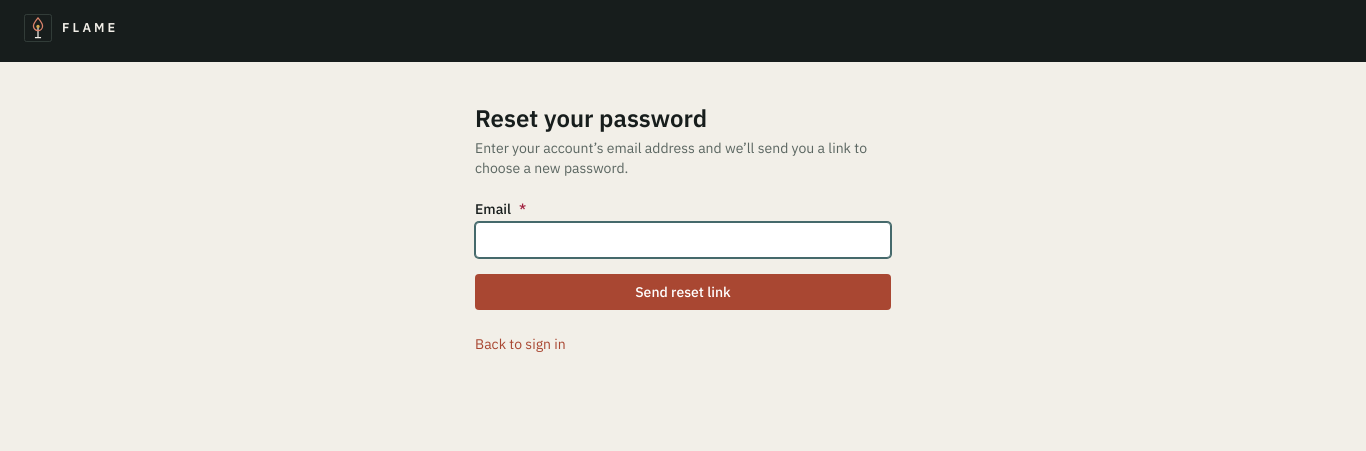
Test: forgot password › explains a rate limit
This screenshot has width=1366, height=451.
Expected: the button "Send reset link" is enabled, 475,274 -> 891,310
Type "ada@example.com" into the field labelled "Email *" at {"x": 683, "y": 240}, box 475,222 -> 891,258
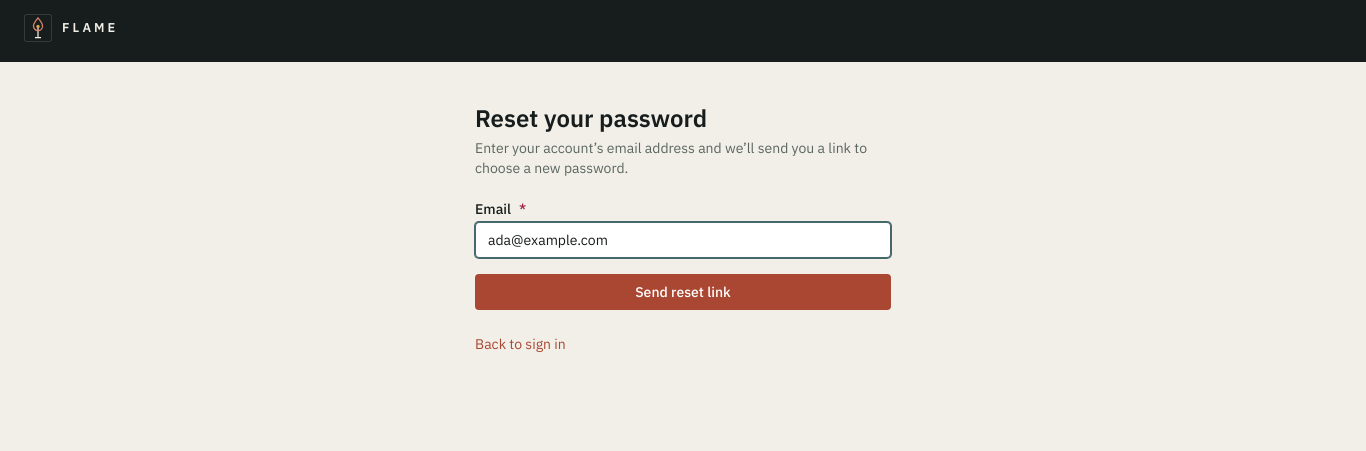
Click the button "Send reset link" at {"x": 683, "y": 292}, box 475,274 -> 891,310
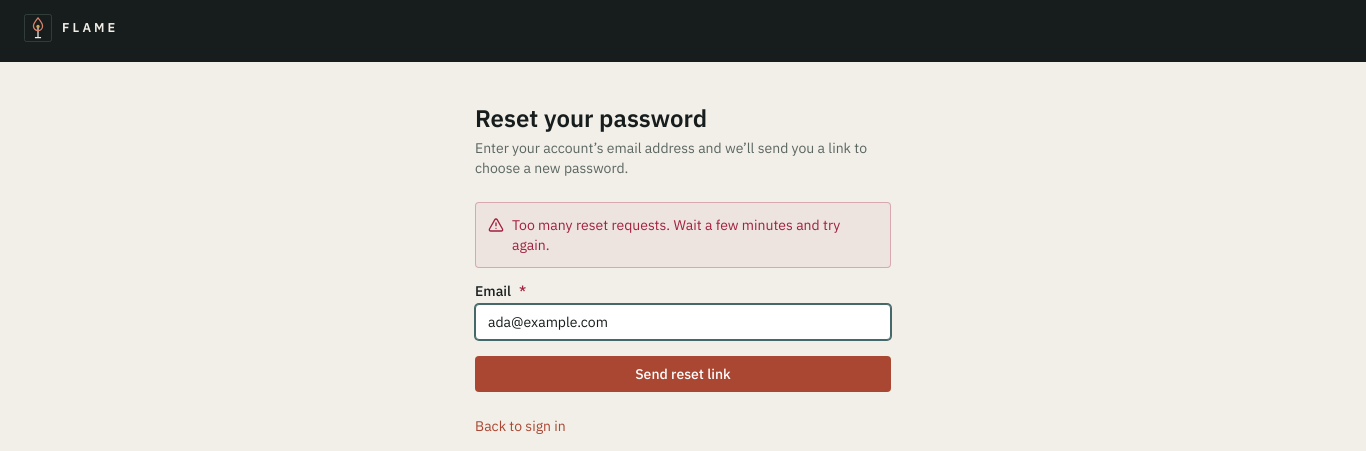
Expected: the message shows "Too many reset requests", 512,216 -> 840,254
